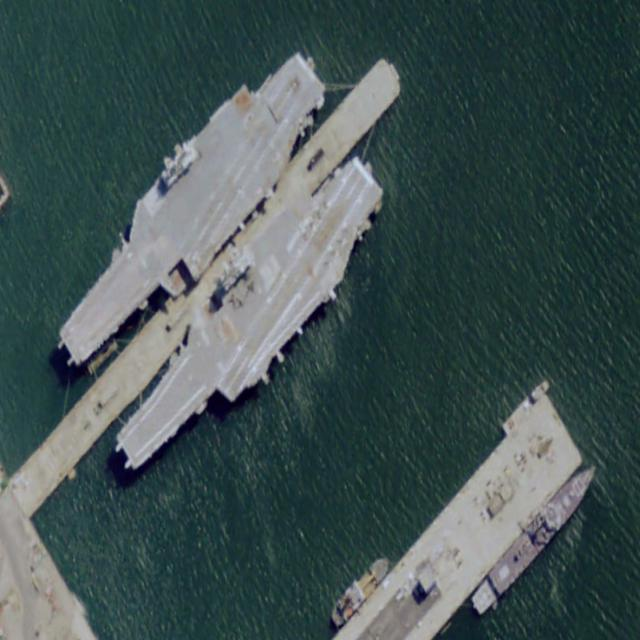Aircraft Carrier: (90, 119, 407, 517), (34, 17, 343, 404)
Other Warship: (469, 451, 603, 620), (328, 551, 394, 631)
